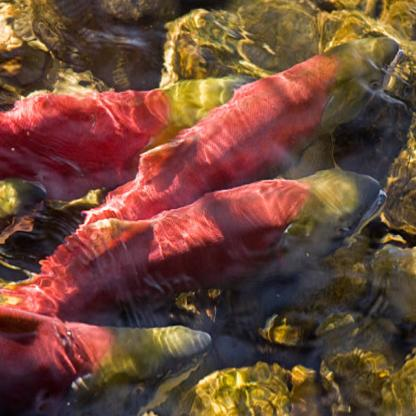sockeye: (84, 158, 383, 312), (157, 27, 395, 214), (1, 78, 239, 163), (2, 317, 206, 375)
sockeye-group: (0, 30, 403, 386)
